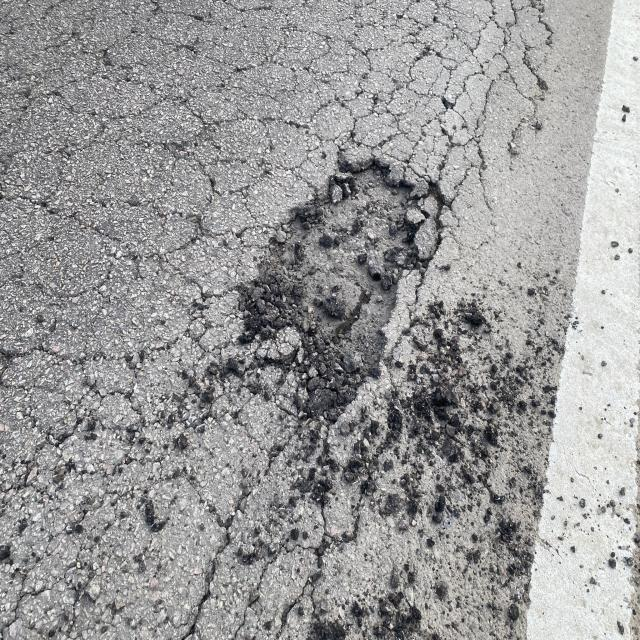pothole: (238, 124, 455, 463)
